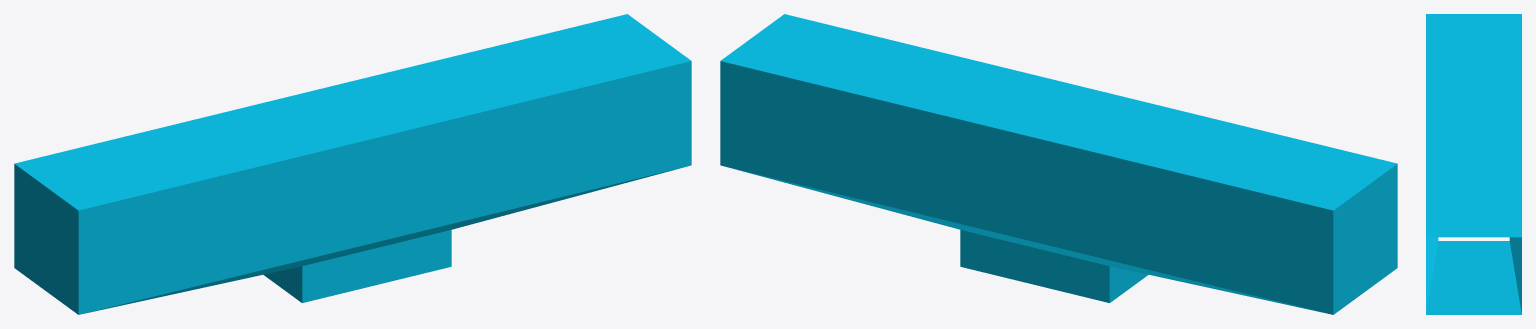
File: scope_03.fbx
The picture shows the model from 3 angles, left to right: view 1: azimuth 30°, elevation 25°; view 2: azimuth 150°, elevation 25°; view 3: azimuth 270°, elevation 25°; orthographic projection. The views are drawn at different scales.
Parts seen in each view (by area): view 1: scope_1.002; view 2: scope_1.002; view 3: scope_1.002.
Part boxes in pixels (<box>): scope_1.002: <box>14,14,691,314</box>; scope_1.002: <box>720,14,1397,314</box>; scope_1.002: <box>1426,14,1521,314</box>.
Size of the model in its own units: 670 by 162 by 122.
